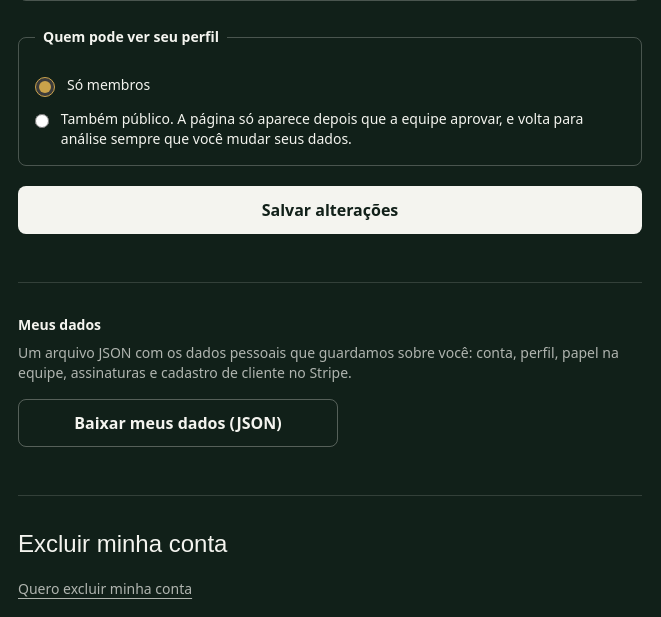
Test: bloco Excluir minha conta › o botão só habilita com e-mail e senha
The width and height of the screenshot is (661, 617).
(page scrolled)
Click the button "Quero excluir minha conta" at {"x": 105, "y": 589}, box [18,579,192,599]
(page scrolled)
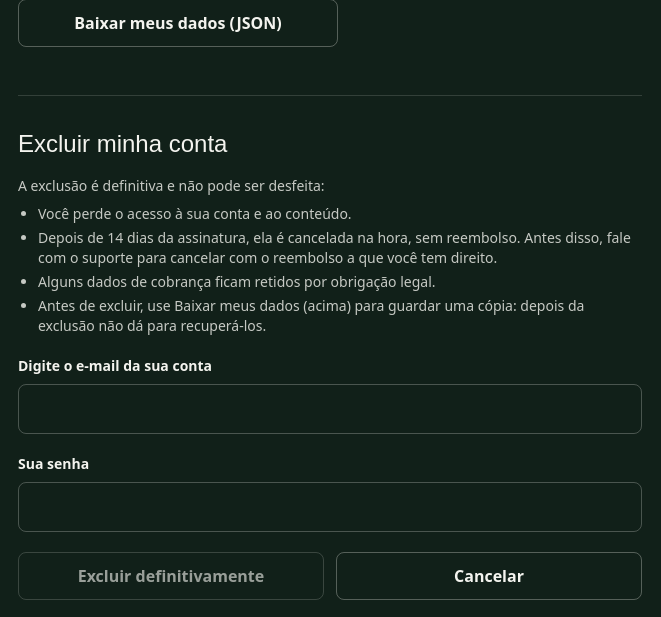
Now the button "Excluir definitivamente" is disabled, box [18,552,324,600]
Type "a@b.com" into the field labelled "Digite o e-mail da sua conta" at {"x": 330, "y": 409}, box [18,384,642,434]
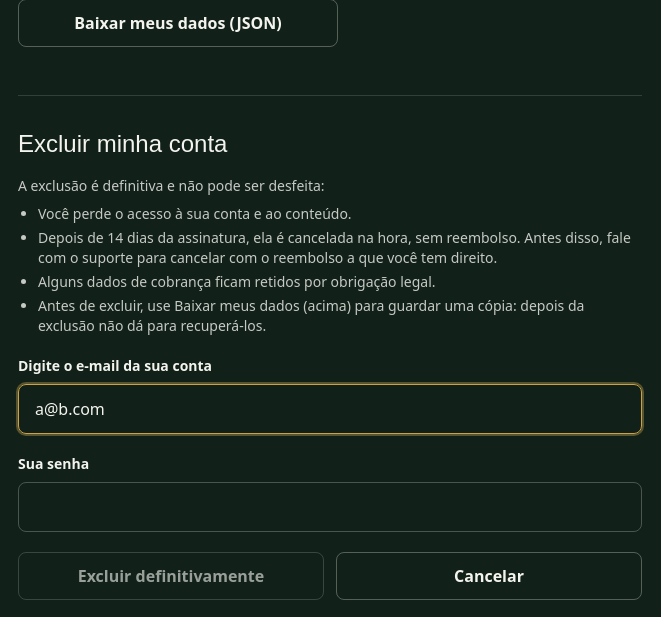
Now the button "Excluir definitivamente" is disabled, box [18,552,324,600]
Type "senha_falsa" into the password field labelled "Sua senha" at {"x": 330, "y": 507}, box [18,482,642,532]
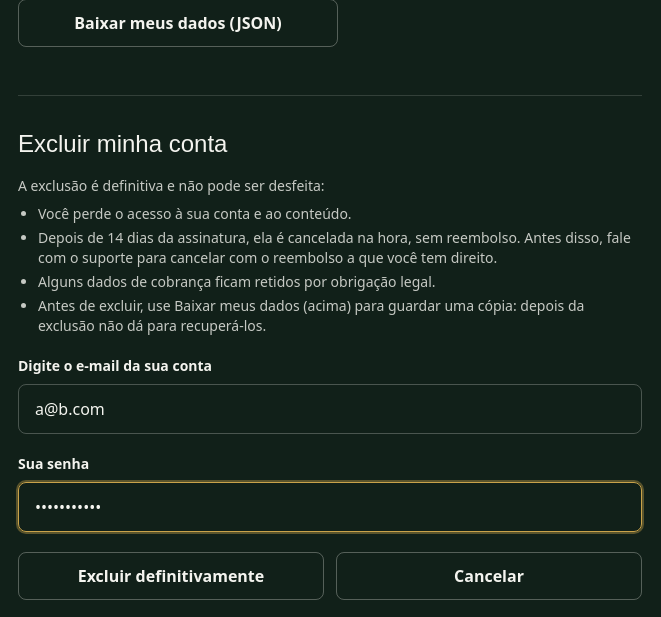
Now the button "Excluir definitivamente" is enabled, box [18,552,324,600]
